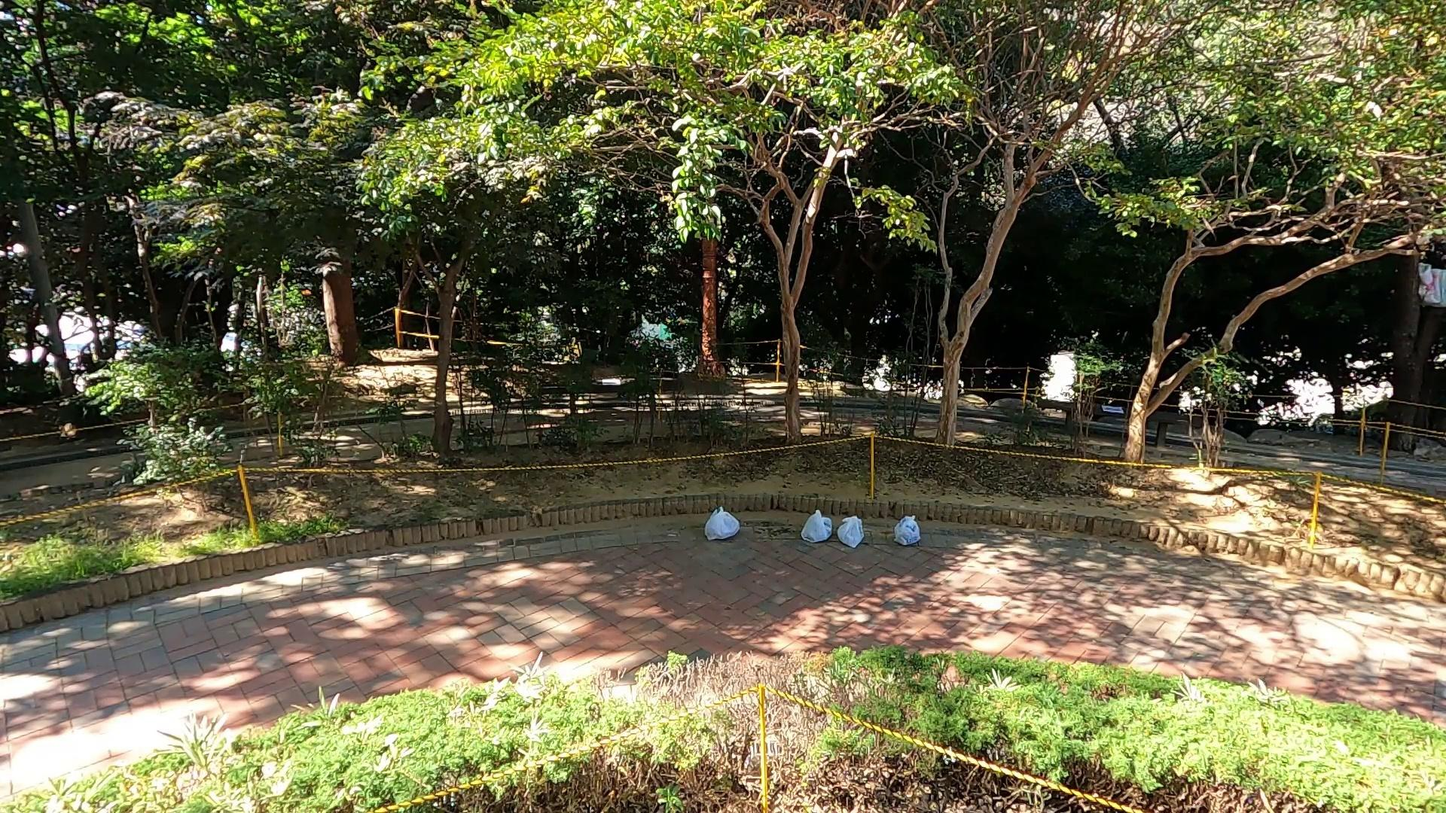trash: (696, 501, 746, 544), (799, 507, 836, 548), (835, 514, 870, 551), (894, 514, 926, 552)
